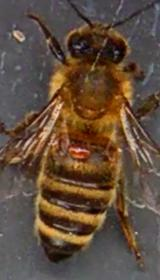varroa_mite: (66, 138, 91, 162)
